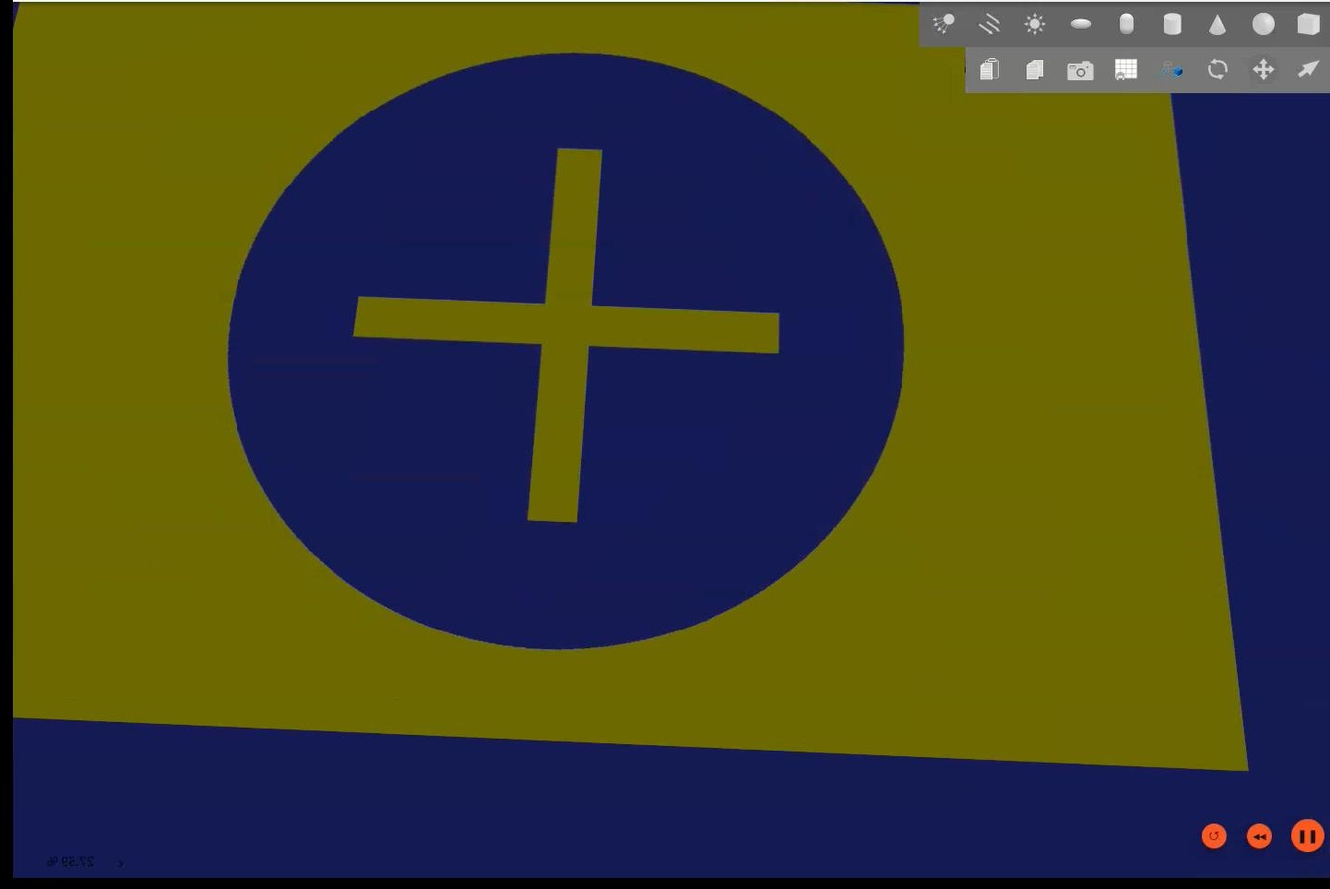large_base: (7, 1, 1328, 880)
